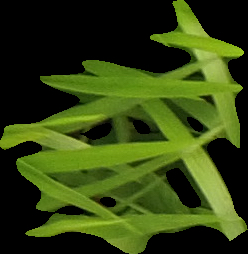grass: (1, 1, 246, 252)
